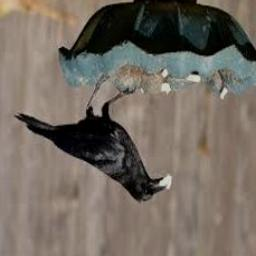Crow: (13, 77, 171, 204)
